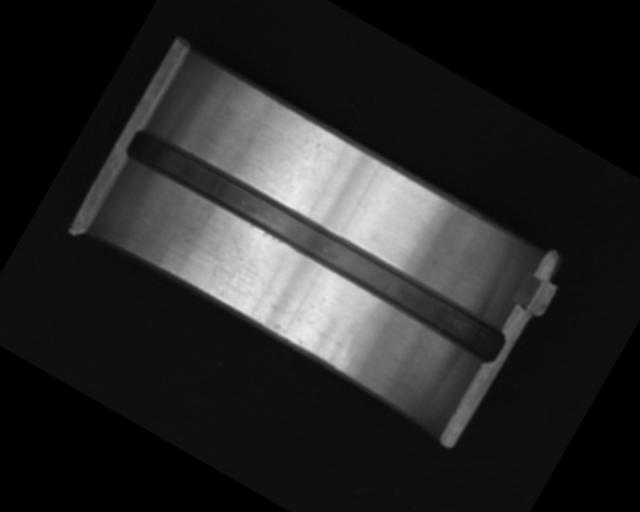gap: (119, 121, 513, 371)
